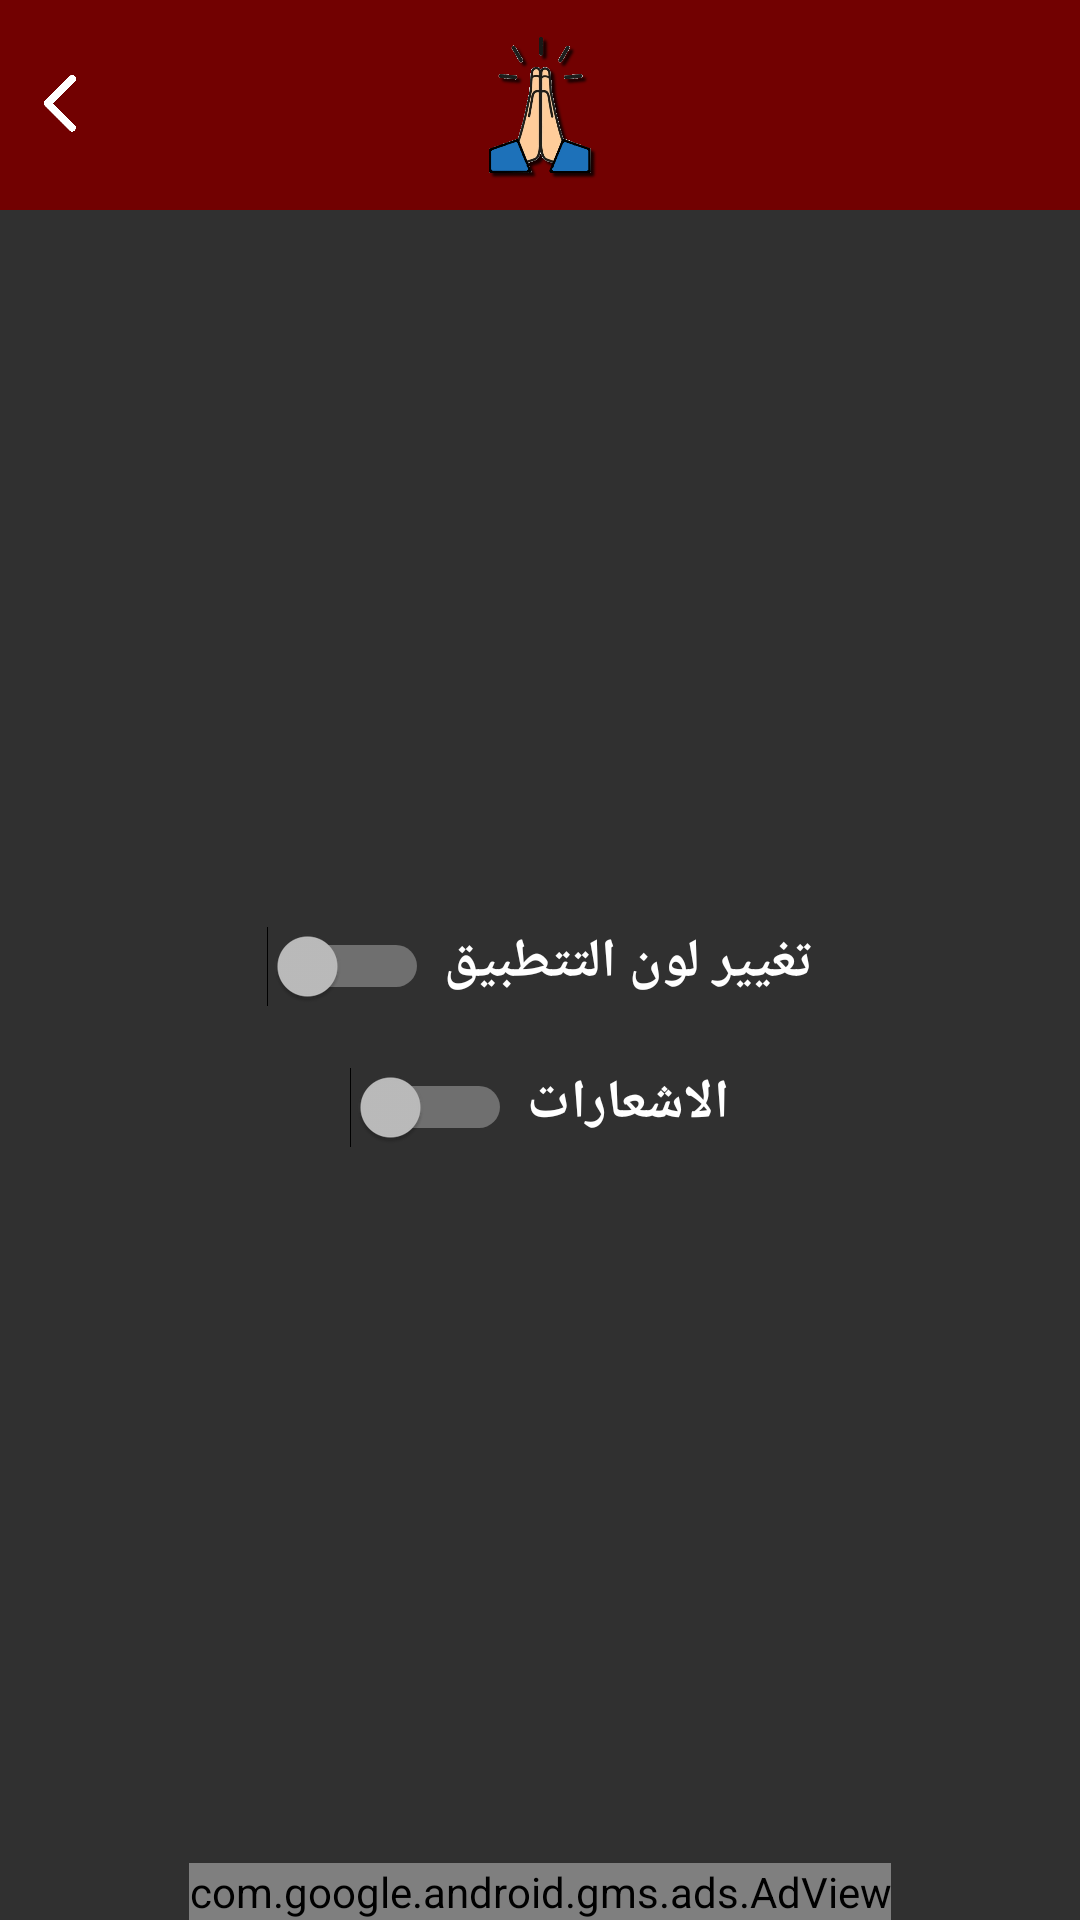

Named icons in this screenshot (1080x1920) and their bounding boxes, (x1, y1, x2, y2):
back: (44, 75, 76, 132)
main: (489, 37, 595, 177)
